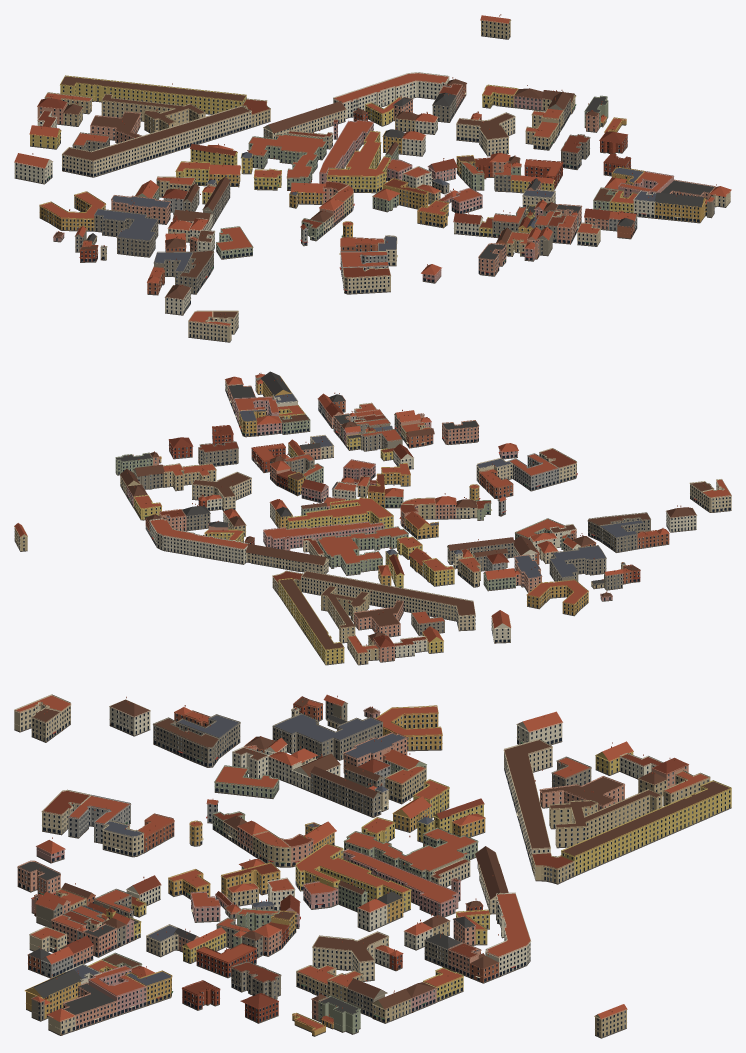
The model's file is Budynki_0_1.fbx.
3 renders of one model, top to bottom at view 1: azimuth 30°, elevation 25°; view 2: azimuth 150°, elevation 25°; view 3: azimuth 270°, elevation 25°, orthographic. The views are drawn at different scales.
Visible parts, largest first — view 1: Bud_175228989, Bud_283578040, Bud_283579925, Bud_184718621, Bud_104822358, Bud_283579427, Bud_283578812, Bud_184718619, Bud_104822330, Bud_283579834, Bud_283579426, Bud_105039925 (+42 smaller); view 2: Bud_175228989, Bud_283579925, Bud_184718621, Bud_283578040, Bud_283579427, Bud_283579426, Bud_104822358, Bud_283579834, Bud_283578812, Bud_104822330, Bud_184718619, Bud_105039921 (+40 smaller); view 3: Bud_283578040, Bud_175228989, Bud_283578812, Bud_283579925, Bud_104822358, Bud_283579427, Bud_283579426, Bud_184718621, Bud_184718619, Bud_104822330, Bud_104255976, Bud_104822352 (+77 smaller).
Part boxes in pixels (x1,y1,x2,y2): Bud_175228989: (62,105,251,177); Bud_283578040: (60,75,246,114); Bud_283579925: (248,134,326,190); Bud_184718621: (333,72,449,118); Bud_104822358: (94,208,158,257); Bud_283579427: (326,130,390,193); Bud_283578812: (101,93,205,133); Bud_184718619: (456,112,515,156); Bud_104822330: (39,191,105,231); Bud_283579834: (263,101,346,139); Bud_283579426: (319,119,373,183); Bud_105039925: (654,192,706,223); Bud_175228989: (301,570,475,631); Bud_283579925: (317,526,408,575); Bud_184718621: (149,518,249,564); Bud_283578040: (278,578,344,665); Bud_283579427: (286,497,393,529); Bud_283579426: (263,521,384,549); Bud_104822358: (549,545,606,581); Bud_283579834: (245,543,329,574); Bud_283578812: (320,585,369,643); Bud_104822330: (526,579,588,616); Bud_184718619: (192,472,251,511); Bud_105039921: (509,453,559,491); Bud_283578040: (561,780,731,876); Bud_175228989: (503,739,552,868); Bud_283578812: (549,789,662,848); Bud_283579925: (343,827,478,880); Bud_104822358: (272,713,382,760); Bud_283579427: (295,843,411,912); Bud_283579426: (343,848,458,917); Bud_184718621: (485,892,531,977); Bud_184718619: (312,931,388,981); Bud_104822330: (375,705,442,751); Bud_104255976: (153,717,219,767); Bud_104822352: (310,766,382,817).
Size of the model in its own units: 508 by 20.1 by 472.
